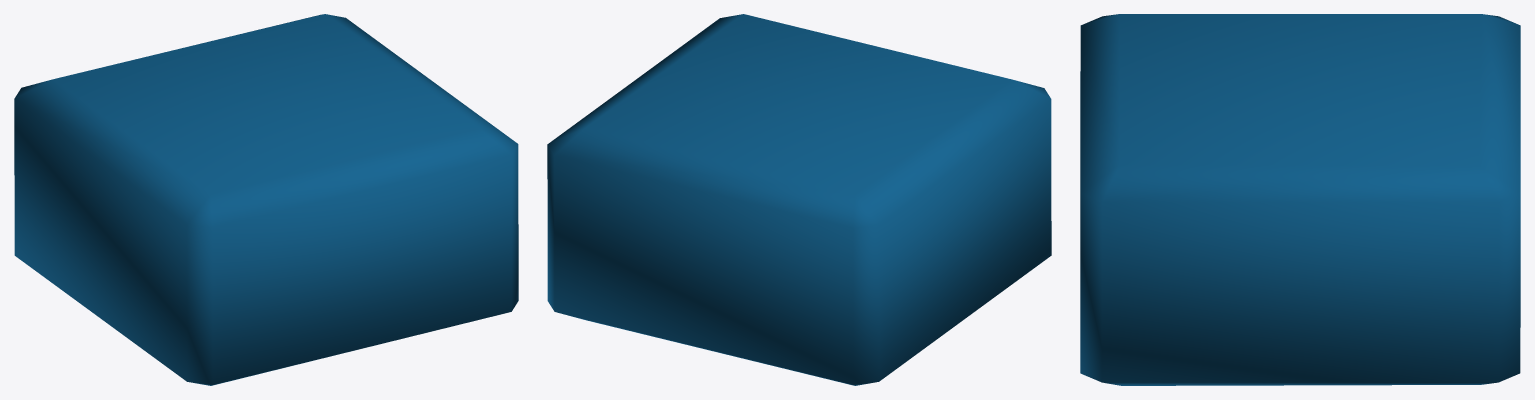
File: water.glb
3 views of the same model, side by side, from view 1: azimuth 30°, elevation 25°; view 2: azimuth 150°, elevation 25°; view 3: azimuth 270°, elevation 25° (orthographic). The views are drawn at different scales.
Visible parts, largest first — view 1: grass_flat.914; view 2: grass_flat.914; view 3: grass_flat.914.
Part boxes in pixels (bbox=[...]): grass_flat.914: bbox=[14, 14, 518, 385]; grass_flat.914: bbox=[547, 14, 1051, 385]; grass_flat.914: bbox=[1080, 14, 1520, 385].
Size of the model in its own units: 2 by 1.1 by 2.
